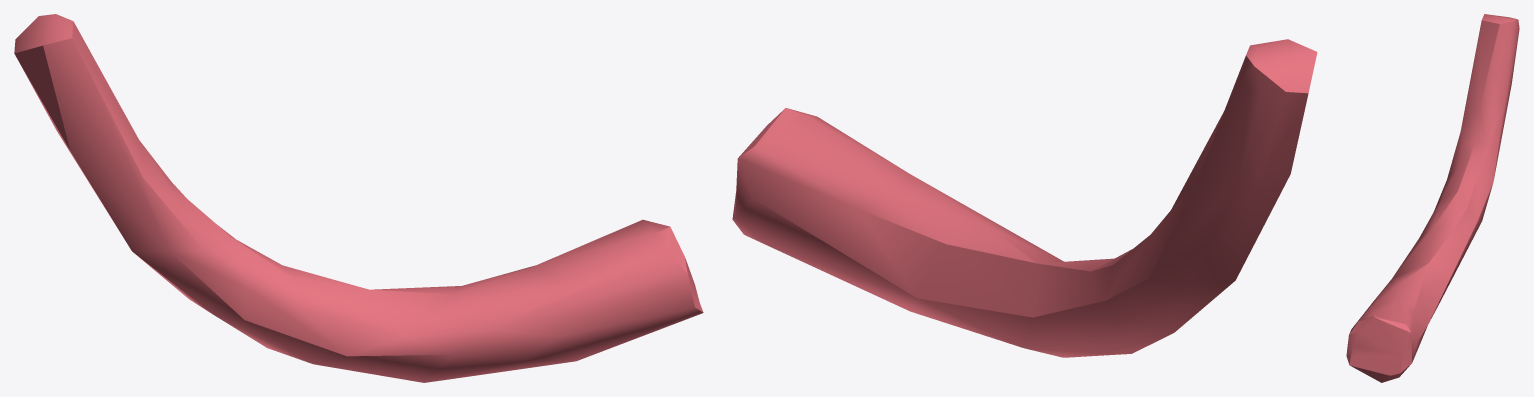
The model's file is fma68712_fj2992.glb.
The picture shows the model from 3 angles, left to right: view 1: azimuth 30°, elevation 25°; view 2: azimuth 150°, elevation 25°; view 3: azimuth 270°, elevation 25°; orthographic projection. The views are drawn at different scales.
Visible parts, largest first — view 1: FMA68712_FJ2992; view 2: FMA68712_FJ2992; view 3: FMA68712_FJ2992.
Part boxes in pixels (<box>): FMA68712_FJ2992: <box>14,14,703,382</box>; FMA68712_FJ2992: <box>732,39,1317,357</box>; FMA68712_FJ2992: <box>1346,14,1519,382</box>.
Bounding box in the file's own units: 0.0191 × 0.012 × 0.00842.
